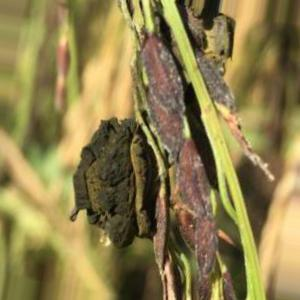False Smut: (77, 118, 153, 246)
